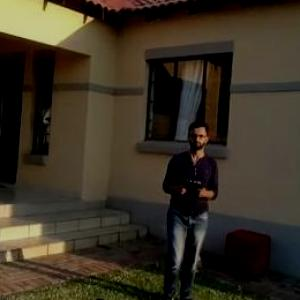follow: (153, 116, 224, 299)
